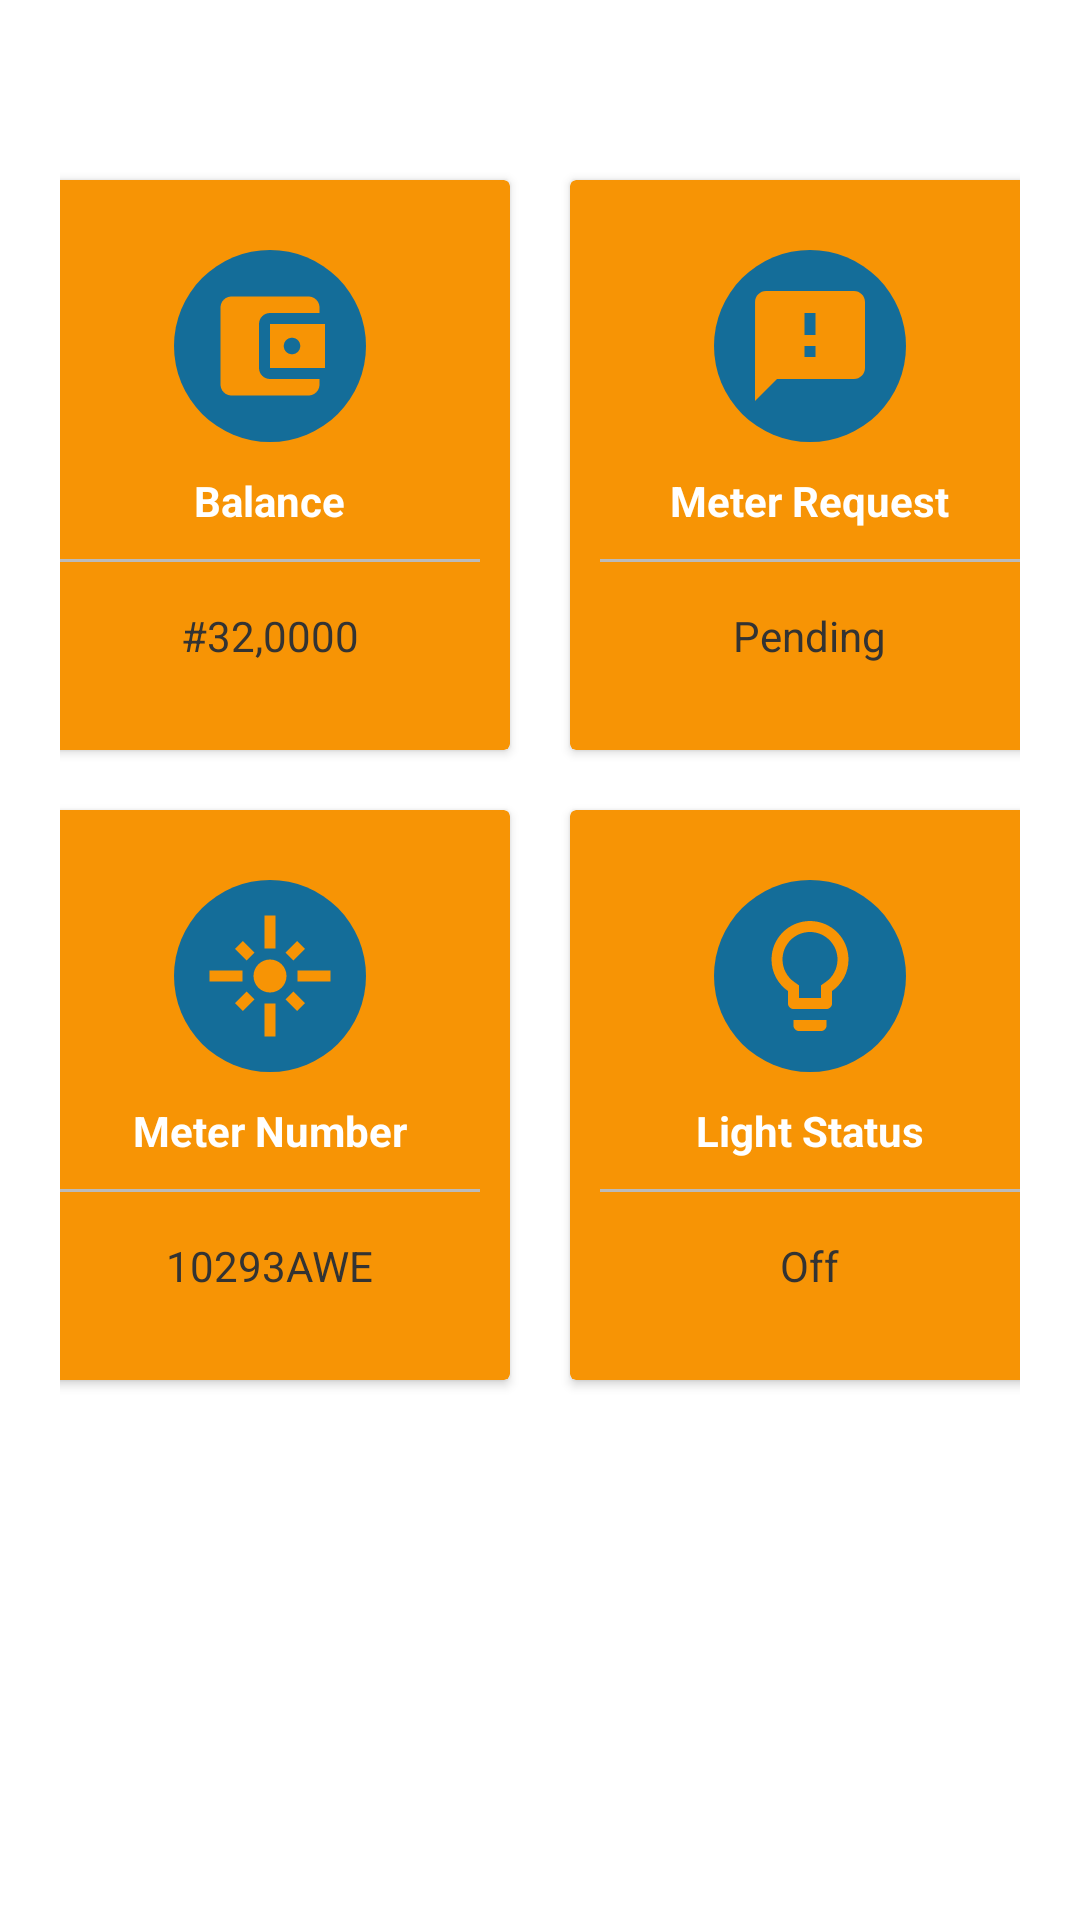

Where icons sit on this 1080×1920 app screen, as bbox(x1, y1, x2, y2):
feedback: bbox(714, 250, 906, 442)
